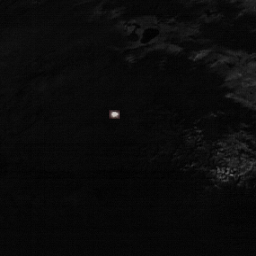Target: (108, 109, 120, 118)
